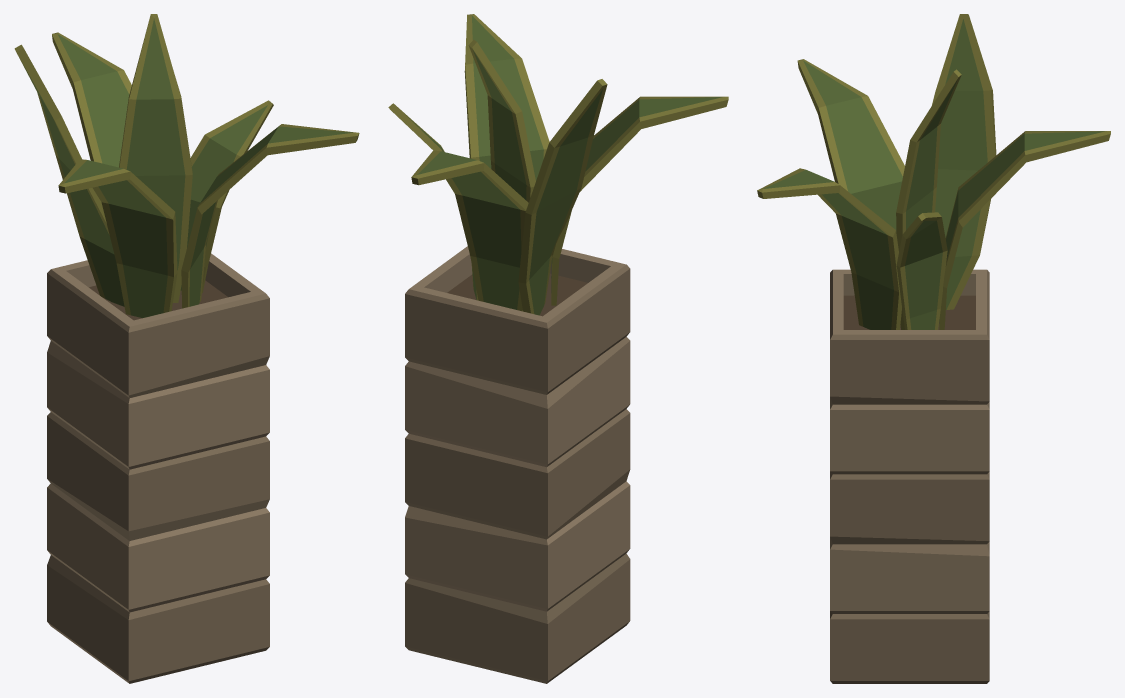
The model's file is SM_Props_Interior_Plant_Large_01.fbx.
3 views of the same model, side by side, from view 1: azimuth 30°, elevation 25°; view 2: azimuth 150°, elevation 25°; view 3: azimuth 270°, elevation 25° (orthographic). The views are drawn at different scales.
Visible parts, largest first — view 1: SM_Props_Interior_Plant_Large_01; view 2: SM_Props_Interior_Plant_Large_01; view 3: SM_Props_Interior_Plant_Large_01.
Part boxes in pixels (bbox=[...]): SM_Props_Interior_Plant_Large_01: bbox=[14, 14, 359, 683]; SM_Props_Interior_Plant_Large_01: bbox=[388, 14, 728, 683]; SM_Props_Interior_Plant_Large_01: bbox=[757, 14, 1110, 683].
Bounding box in the file's own units: 73.82 × 152 × 82.63.
